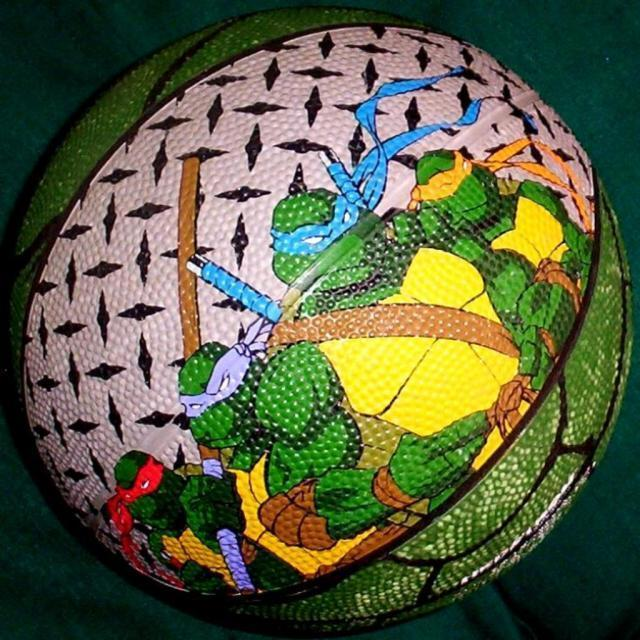ball: (0, 3, 633, 640)
